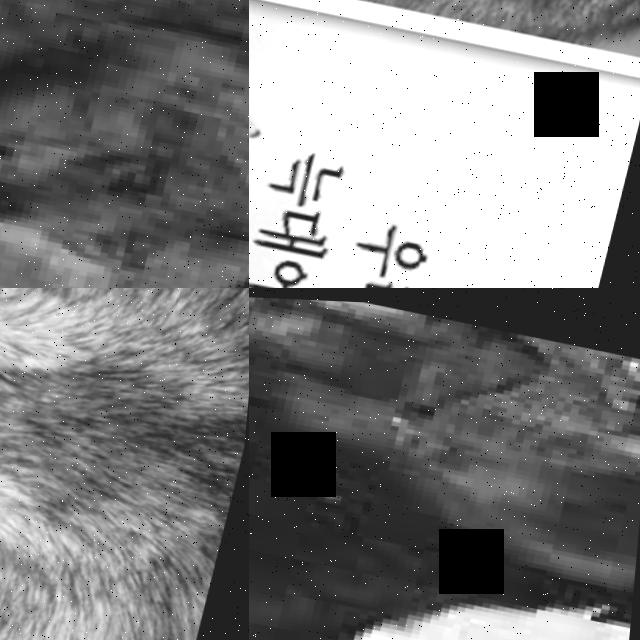dog: (249, 288, 640, 640)
wolf: (0, 288, 249, 640), (0, 0, 249, 288), (249, 0, 640, 64)
